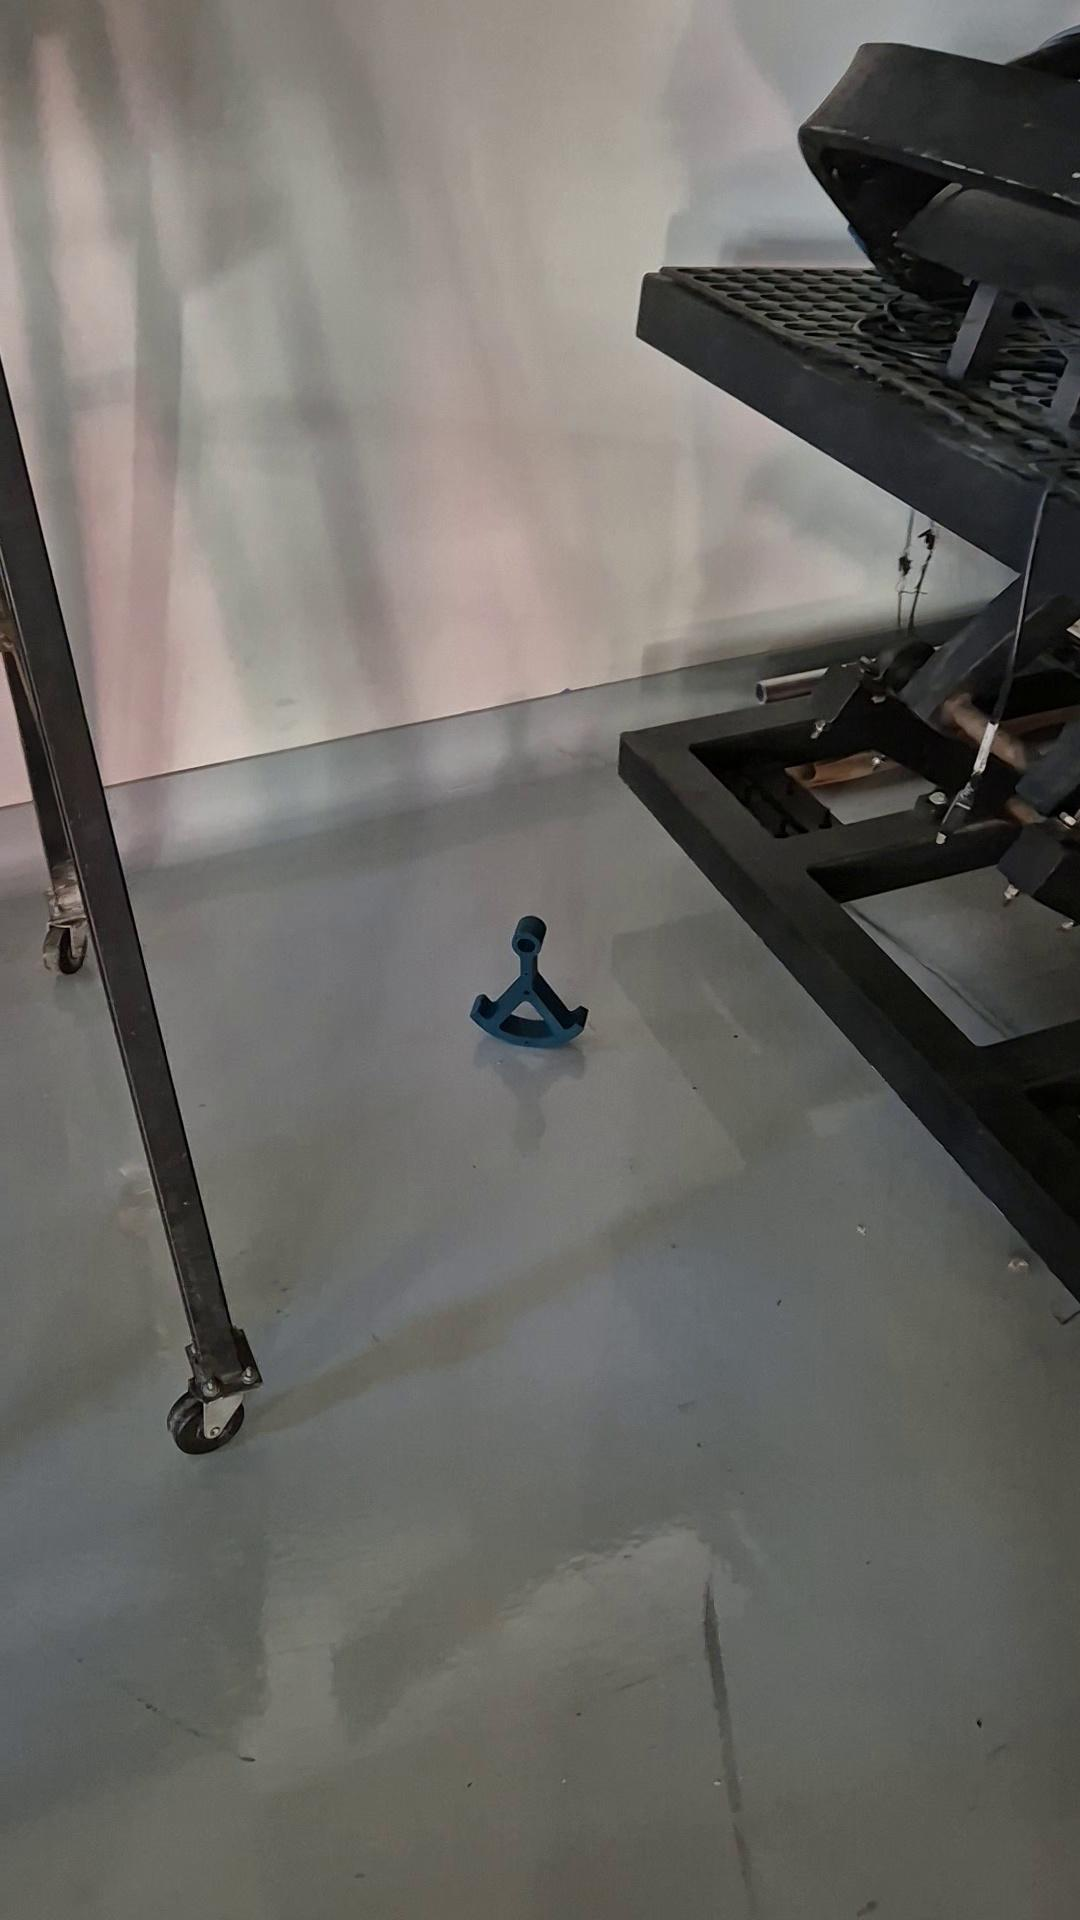Paddles: (468, 914, 591, 1051)
